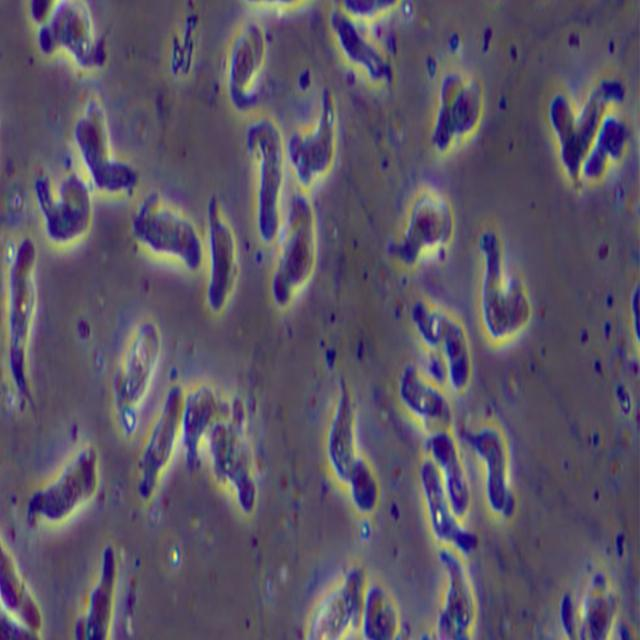Amoeba: (3, 1, 638, 637)
